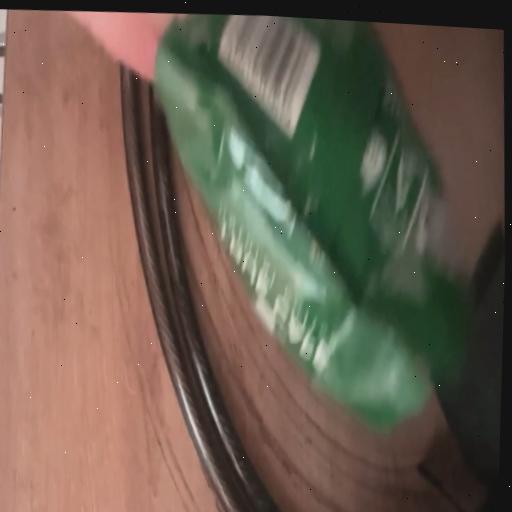cafe_xay: (151, 13, 470, 427)
